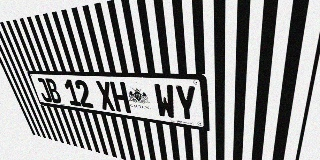1: (62, 79, 82, 106)
2: (74, 80, 94, 108)
B: (44, 78, 63, 104)
H: (109, 81, 131, 113)
J: (35, 78, 53, 103)
W: (153, 84, 177, 120)
X: (95, 81, 116, 111)
Y: (174, 85, 198, 122)
